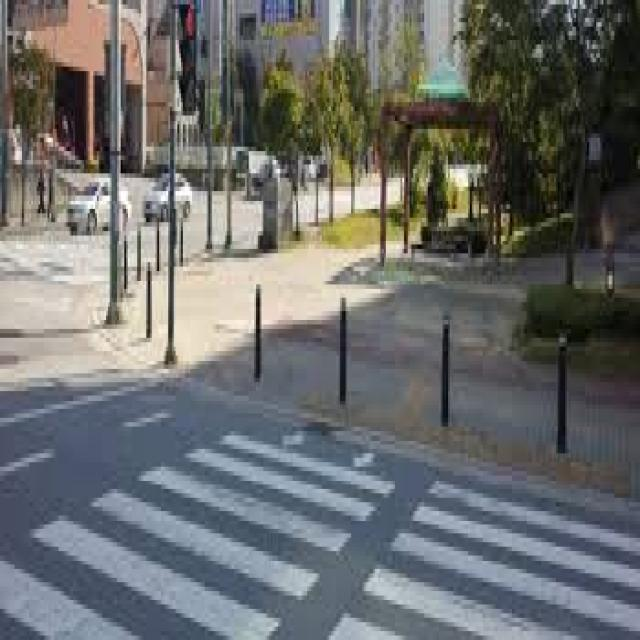bollard: (553, 322, 572, 458), (252, 273, 266, 393), (439, 302, 451, 430), (338, 290, 350, 416), (144, 255, 154, 363), (153, 210, 162, 276), (122, 228, 130, 298), (136, 221, 144, 288), (178, 213, 186, 274)
